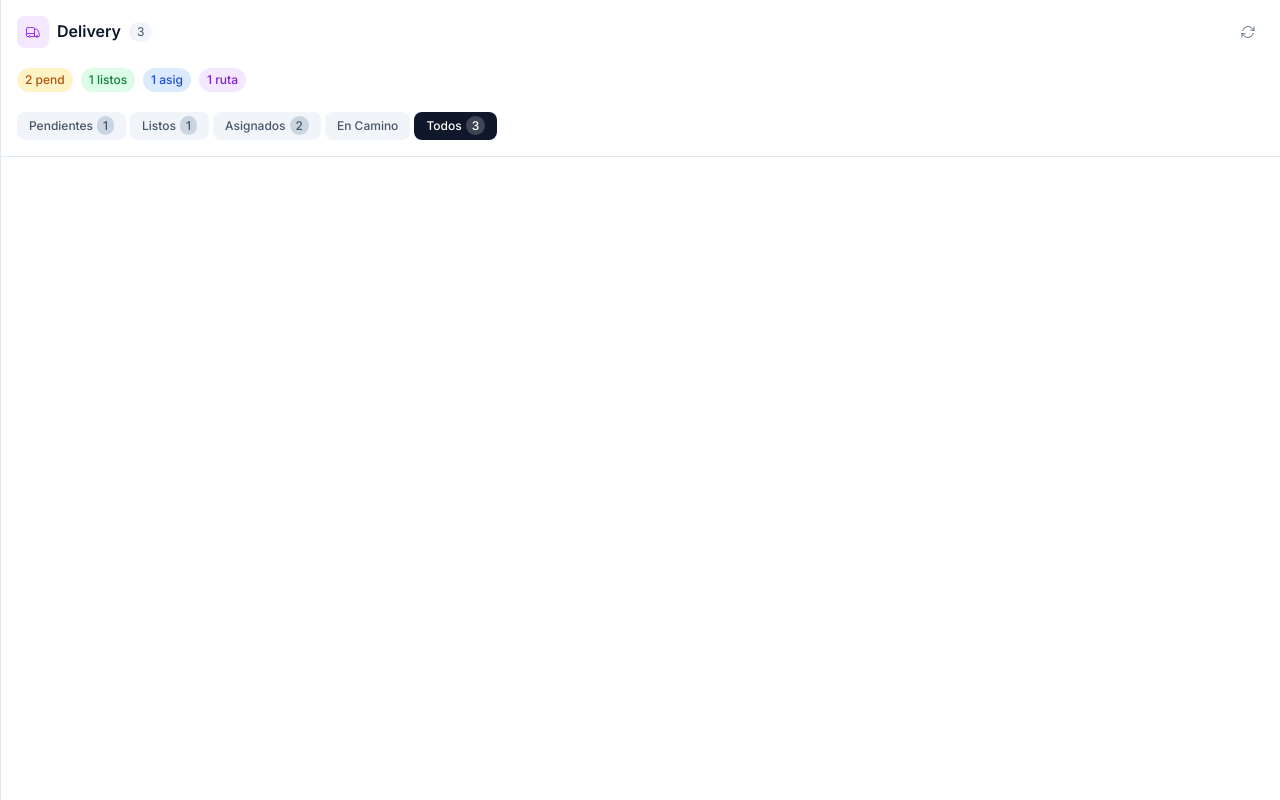
Test: DeliveryPanel › Status Tabs/Filters › should filter orders when tab clicked
# Click on "Pendientes" tab
Click the button "Pendientes1".
click(72, 126)  # box [17, 112, 126, 140]
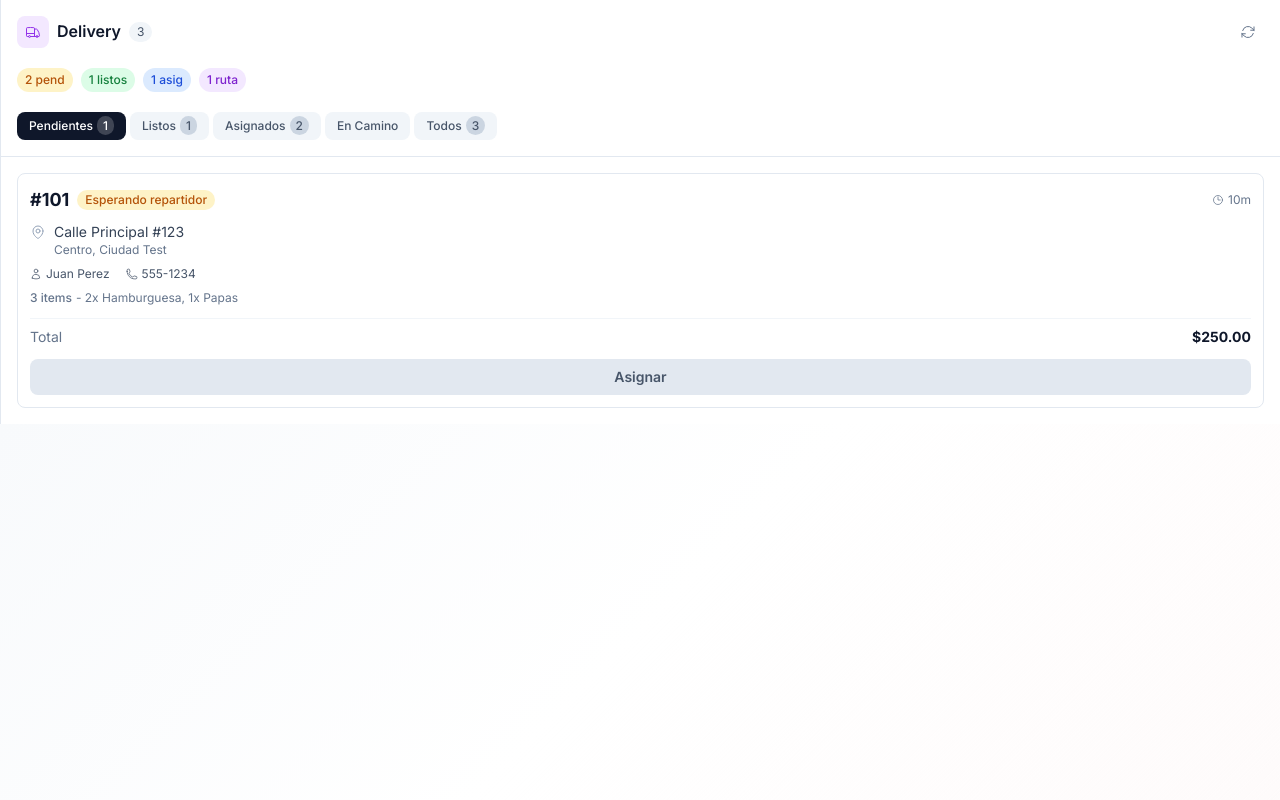
Check: the text "#101" is shown, box [30, 186, 69, 214]
